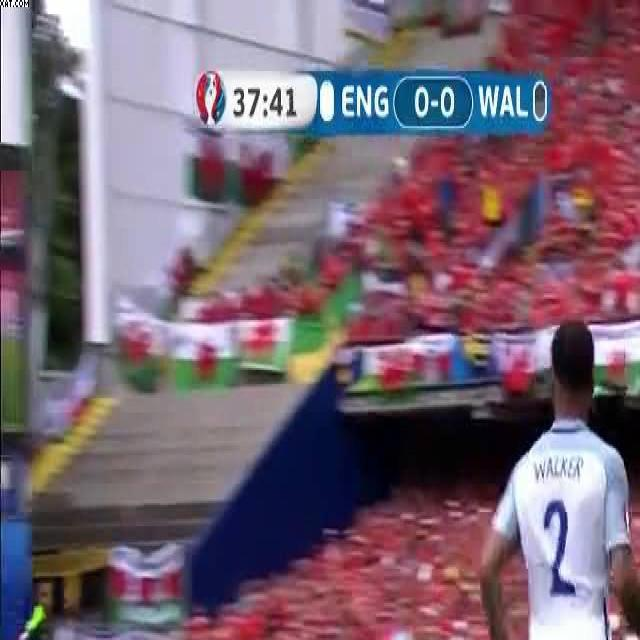player-white: (480, 316, 640, 640), (0, 579, 91, 640)
